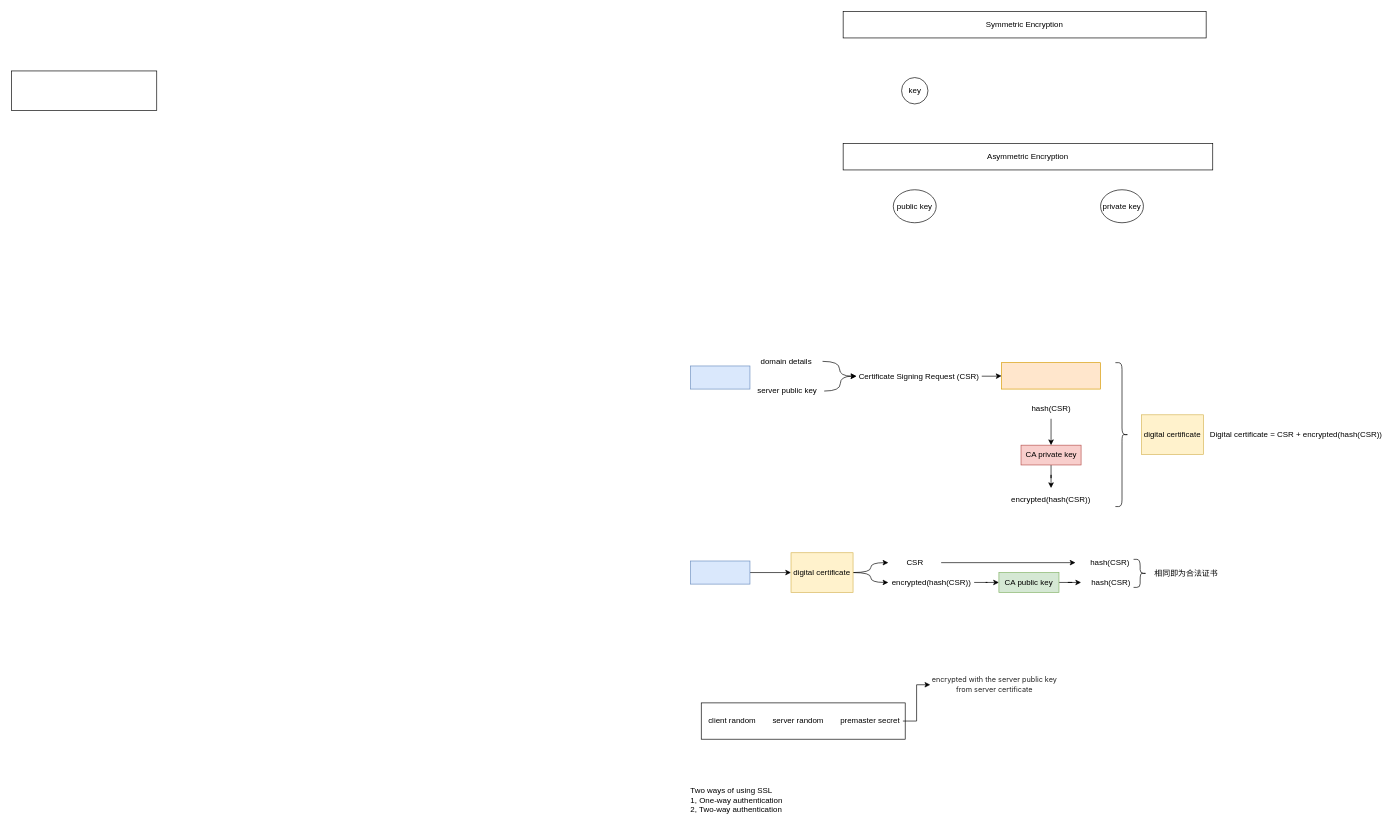
This 1398x828 diagram has some shape labels left out. The box of each missing label's shape, as (x1, y1, x2, y2) in pixels:
Certificate Authority (CA): (1001, 362, 1101, 389)
client: (690, 560, 750, 584)
ReferenceCountedOpenSslContext: (11, 70, 157, 111)
server: (690, 365, 750, 389)
